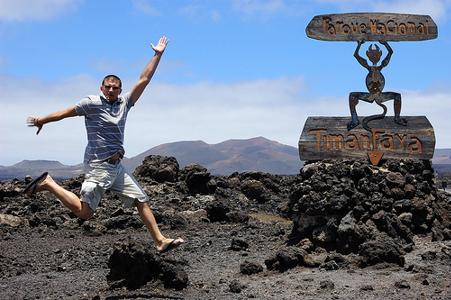person: (29, 35, 185, 255)
